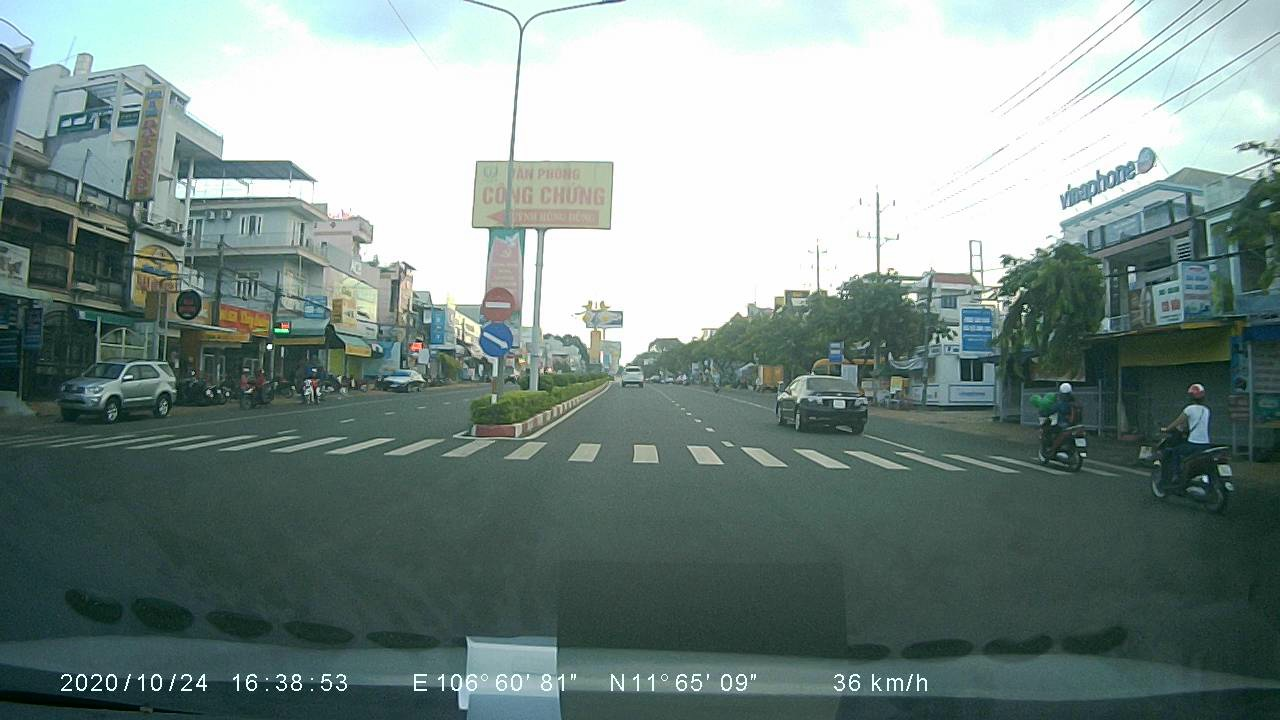Cam di nguoc chieu: (478, 282, 522, 322)
Huong di phai re phai: (477, 321, 516, 360)
